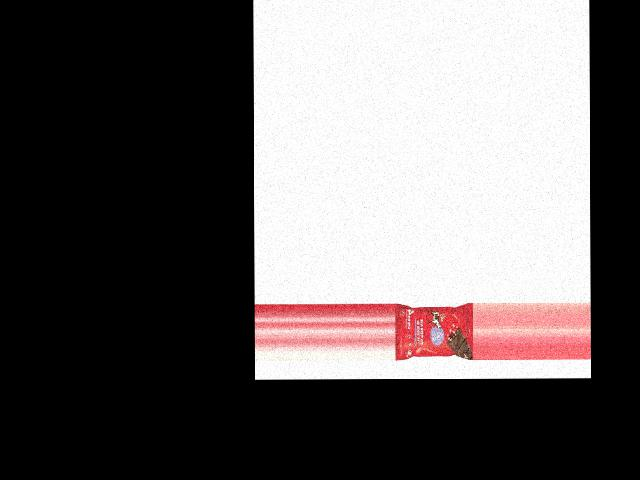chocolate: (394, 305, 473, 361)
